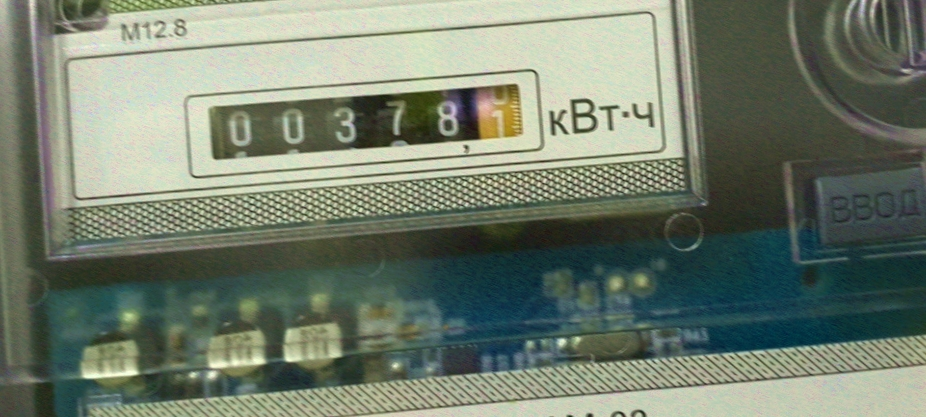0: (226, 105, 255, 147), (279, 104, 305, 144), (487, 82, 509, 105)
1: (487, 105, 507, 137)
3: (330, 102, 357, 144)
7: (382, 96, 407, 136)
8: (433, 96, 459, 137)
screen: (187, 63, 542, 169)
